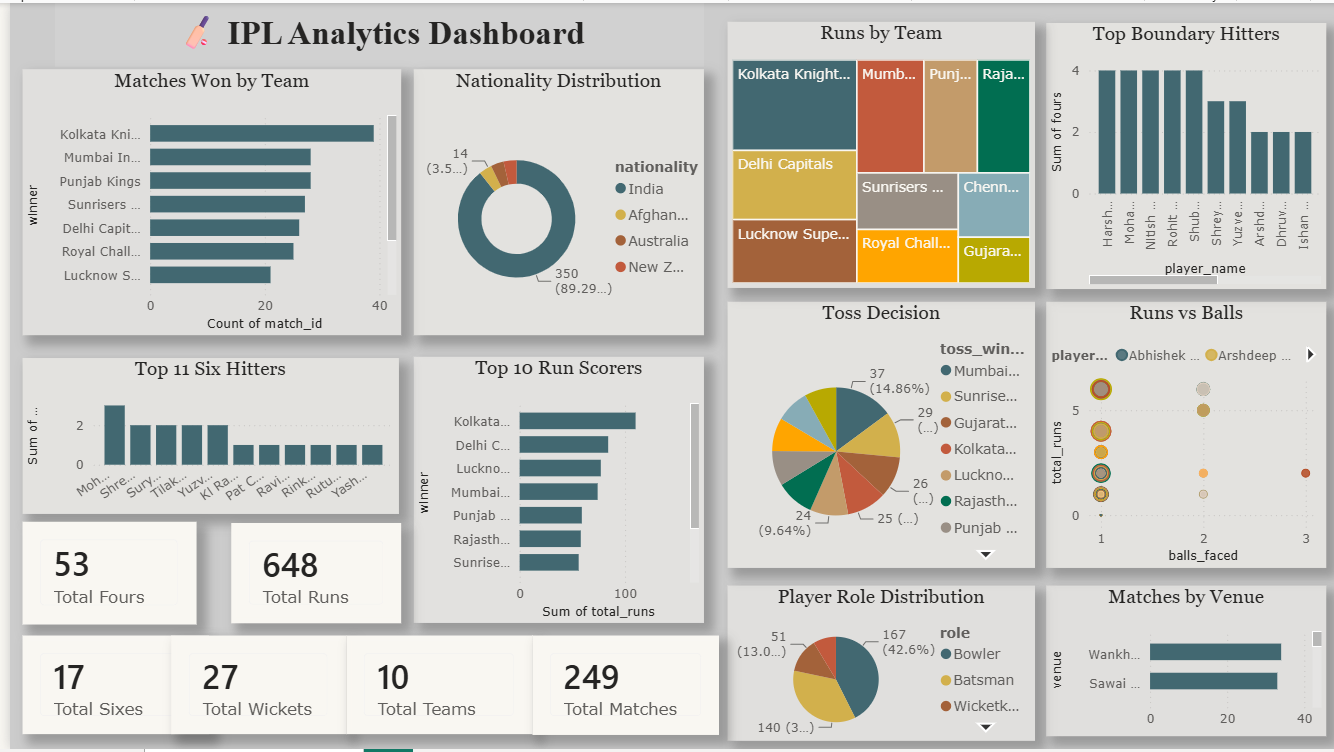

This screenshot's page, from the dashboard's own definition file:
{"tool":"powerbi","page":{"name":"IPL_Analytics_Dashboard","canvas":[1280,720],"ordinal":0},"visuals":[{"type":"clusteredBarChart","title":"Matches Won by Team","fields":{"Category":["fact_match_summary.winner"],"Y":["CountNonNull(fact_match_summary.match_id)"]},"box":[12.1,63.9,365.7,257.1],"z":0},{"type":"clusteredBarChart","title":"Top 10 Run Scorers","fields":{"Category":["fact_match_summary.winner"],"Y":["Sum(fact_player_performance.total_runs)"]},"box":[389.7,341.4,280,257.1],"z":1000},{"type":"columnChart","title":"Top 11 Six Hitters","fields":{"Category":["dim_player.player_name"],"Y":["Sum(fact_player_performance.sixes)"]},"box":[12.1,342.6,362.9,150],"z":2000},{"type":"columnChart","title":"Top Boundary Hitters","fields":{"Category":["dim_player.player_name"],"Y":["Sum(fact_player_performance.fours)"]},"box":[1000.1,19.3,270.2,257],"z":3000},{"type":"treemap","title":"Runs by Team","fields":{"Values":["Sum(fact_player_performance.total_runs)"],"Group":["fact_match_summary.winner"]},"box":[692.9,18.6,297.1,257.1],"z":4000},{"type":"pieChart","title":"Player Role Distribution","fields":{"Y":["CountNonNull(fact_player_performance.player_key)"],"Category":["dim_player.role"]},"box":[692.5,562.2,296.8,149.6],"z":5000},{"type":"donutChart","title":"Nationality Distribution","fields":{"Y":["CountNonNull(fact_player_performance.player_key)"],"Category":["dim_player.nationality"]},"box":[389.7,63.9,279.9,257],"z":6000},{"type":"pieChart","title":"Toss Decision","fields":{"Y":["CountNonNull(fact_match_summary.match_id)"],"Category":["fact_match_summary.toss_winner"]},"box":[692.9,288.6,297.1,257.1],"z":7000},{"type":"barChart","title":"Matches by Venue","fields":{"Category":["fact_match_summary.venue"],"Y":["CountNonNull(fact_match_summary.match_id)"]},"box":[1000.1,562.2,270.2,146],"z":8000},{"type":"scatterChart","title":"Runs vs Balls","fields":{"X":["fact_player_performance.balls_faced"],"Y":["fact_player_performance.total_runs"],"Size":["Sum(fact_player_performance.total_runs)"],"Series":["dim_player.player_name"]},"box":[1000.1,288.3,270.2,257],"z":9000},{"type":"cardVisual","fields":{"Data":["dim_player.Total Fours"]},"box":[12.1,500.7,167.7,98.9],"z":10000},{"type":"cardVisual","fields":{"Data":["dim_player.Total Sixes"]},"box":[12.1,610.5,179.8,95.3],"z":11000},{"type":"cardVisual","fields":{"Data":["dim_player.Total Runs"]},"box":[213.5,501.9,164.1,96.5],"z":12000},{"type":"cardVisual","fields":{"Data":["dim_player.Total Wickets"]},"box":[155.6,610.5,168.9,95.3],"z":13000},{"type":"cardVisual","fields":{"Data":["dim_player.Total Teams"]},"box":[324.5,610.5,179.8,95.3],"z":14000},{"type":"cardVisual","fields":{"Data":["dim_player.Total Matches"]},"box":[504.3,610.5,180,95.7],"z":15000},{"type":"textbox","box":[43.4,0,626.1,61.5],"z":16000}]}

Visuals, with their boxes in screenshot pixels (x1, y1, x2, y2), scaled from the page's 1280x720 canvas onto the 1334x752 screenshot:
"Matches Won by Team" clusteredBarChart: left=13, top=67, right=394, bottom=335
"Top 10 Run Scorers" clusteredBarChart: left=406, top=357, right=698, bottom=625
"Top 11 Six Hitters" columnChart: left=13, top=358, right=391, bottom=514
"Top Boundary Hitters" columnChart: left=1042, top=20, right=1324, bottom=289
"Runs by Team" treemap: left=722, top=19, right=1032, bottom=288
"Player Role Distribution" pieChart: left=722, top=587, right=1031, bottom=743
"Nationality Distribution" donutChart: left=406, top=67, right=698, bottom=335
"Toss Decision" pieChart: left=722, top=301, right=1032, bottom=570
"Matches by Venue" barChart: left=1042, top=587, right=1324, bottom=740
"Runs vs Balls" scatterChart: left=1042, top=301, right=1324, bottom=570
cardVisual - dim_player.Total Fours: left=13, top=523, right=187, bottom=626
cardVisual - dim_player.Total Sixes: left=13, top=638, right=200, bottom=737
cardVisual - dim_player.Total Runs: left=223, top=524, right=394, bottom=625
cardVisual - dim_player.Total Wickets: left=162, top=638, right=338, bottom=737
cardVisual - dim_player.Total Teams: left=338, top=638, right=526, bottom=737
cardVisual - dim_player.Total Matches: left=526, top=638, right=713, bottom=738
textbox: left=45, top=0, right=698, bottom=64
